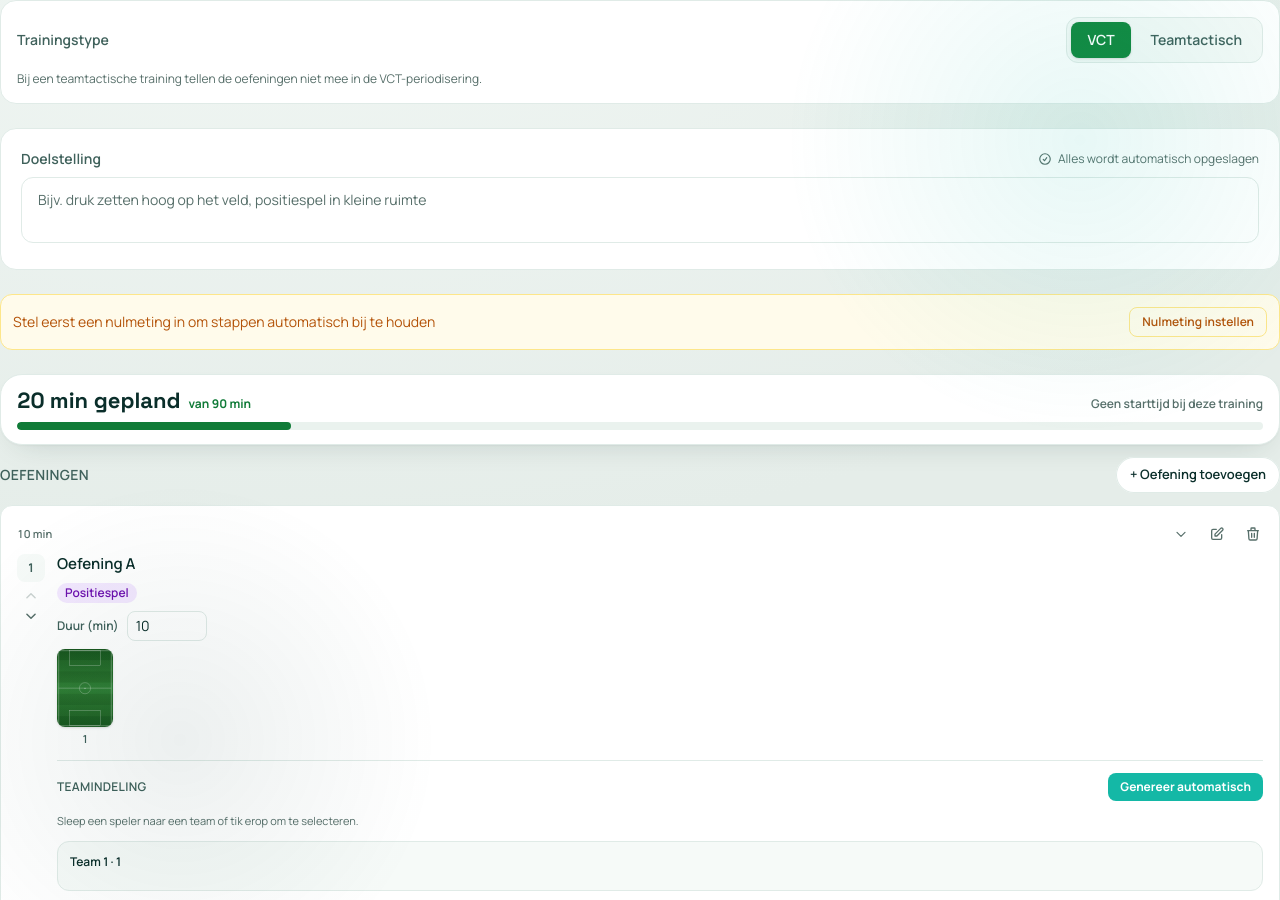
Scenario: TrainingPlanEditor — "Parallel aan"-veld › is niet disabled zodra er een andere, niet-gegroepeerde koppeling bestaat om naast te zetten
Click the button named "Details": (1181, 534) [1165,518,1197,550]
(page scrolled)
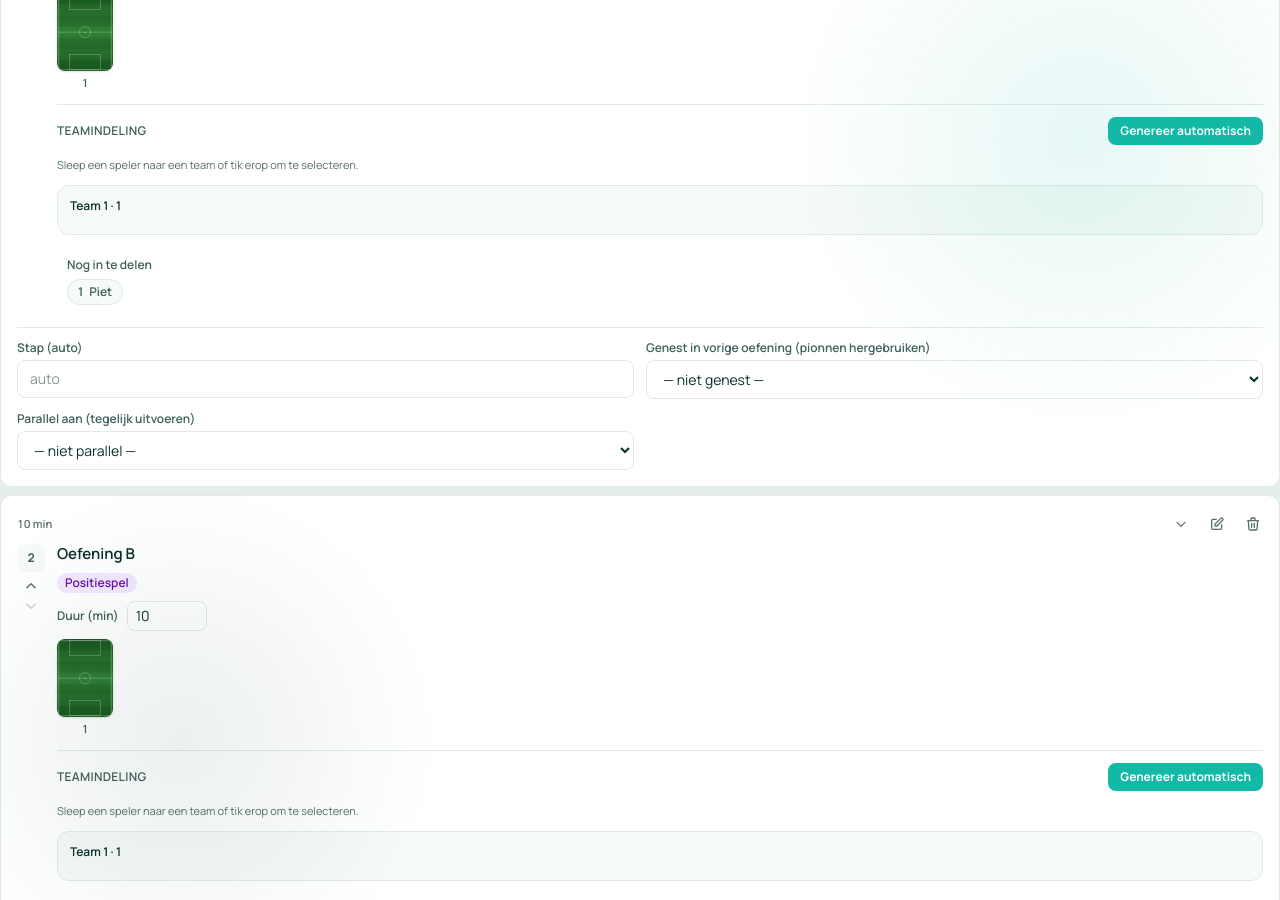
Expected: the dropdown below "Parallel aan (tegelijk uitvoeren)" is enabled, [17,431,634,470]
